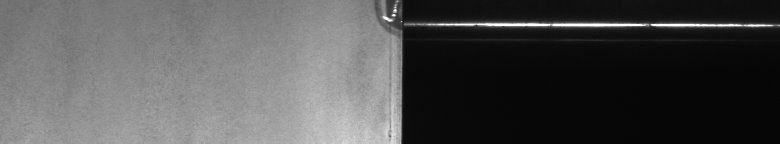hb: (368, 4, 392, 136)
